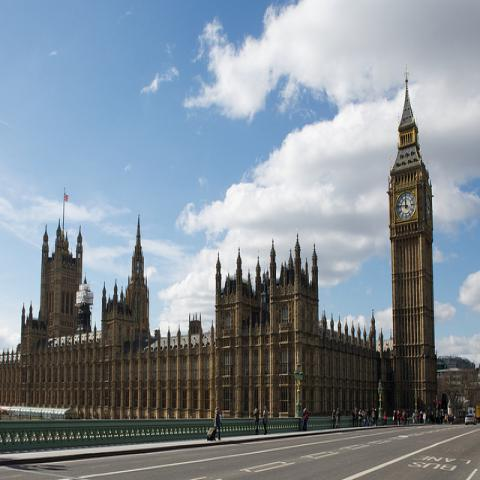car: (464, 415, 476, 425)
